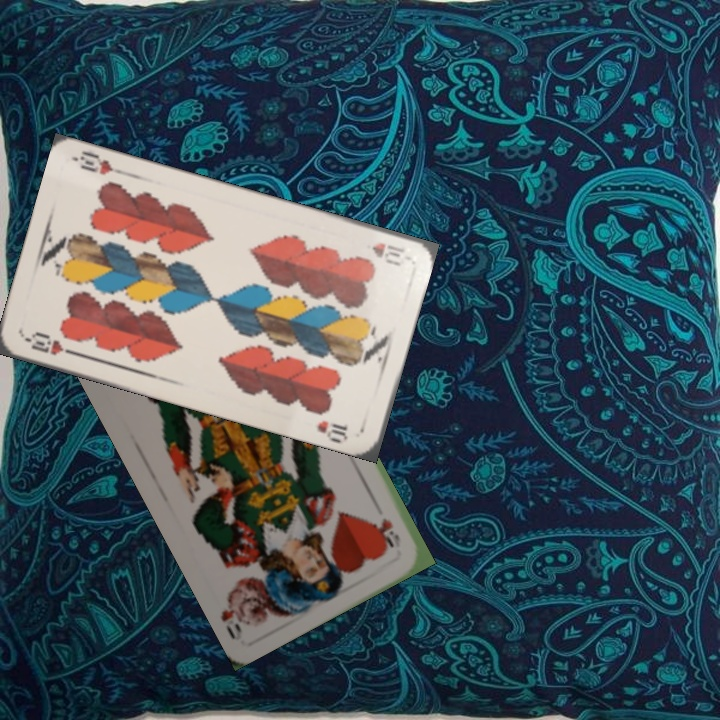H10: (21, 327, 79, 358), (367, 238, 408, 268)
HO: (377, 513, 403, 551)
